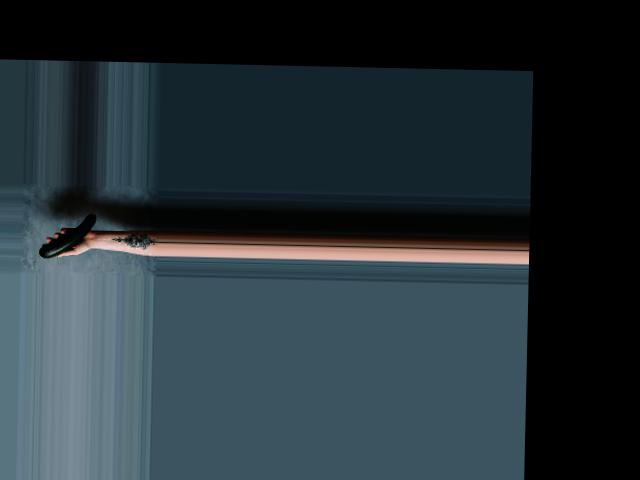cucumber: (38, 212, 95, 258)
